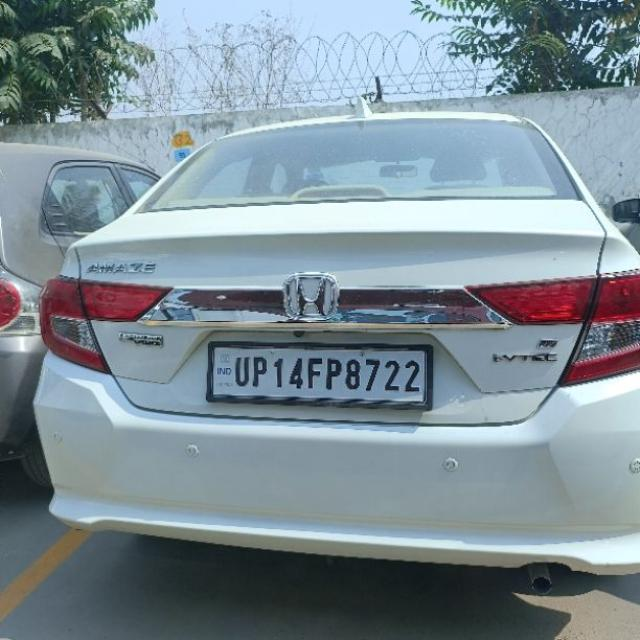license_plate: (205, 339, 433, 408)
